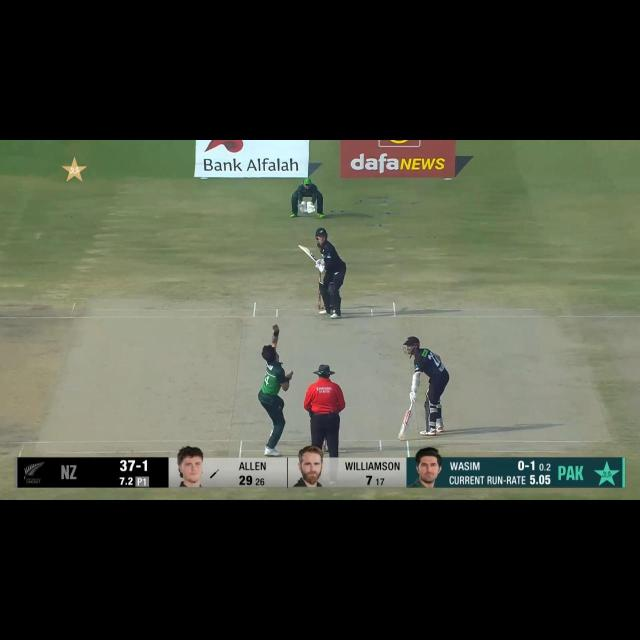bat: (398, 410, 411, 441), (298, 245, 316, 262)
toe: (398, 432, 407, 440), (299, 245, 305, 250)
